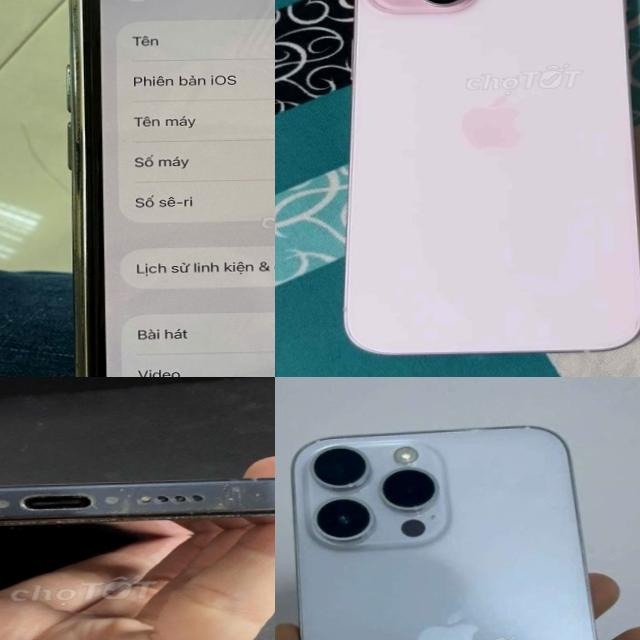gen_11: (39, 0, 275, 377)
gen_14: (296, 418, 639, 640)
gen_15: (331, 0, 640, 372), (0, 456, 275, 553)
